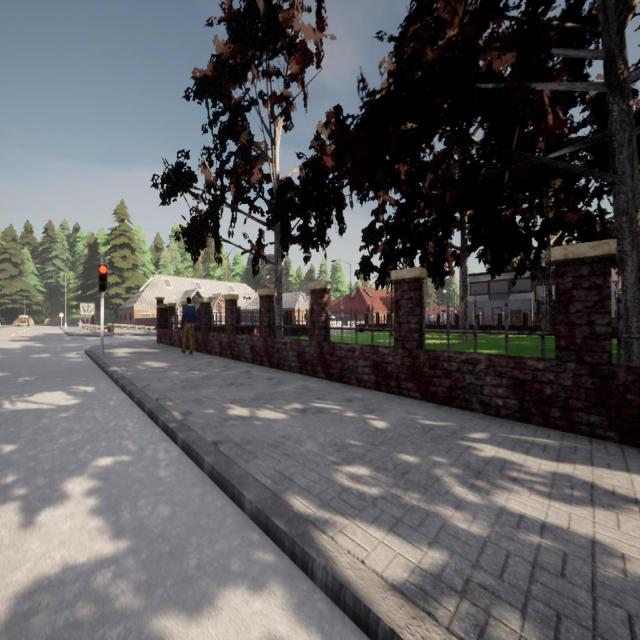Pedestrian: (181, 297, 195, 354), (110, 320, 115, 338), (78, 318, 84, 331)
Traffic_Signs: (59, 312, 64, 318)
Vehicle: (17, 315, 30, 327)
traffic_light: (99, 264, 107, 293)
